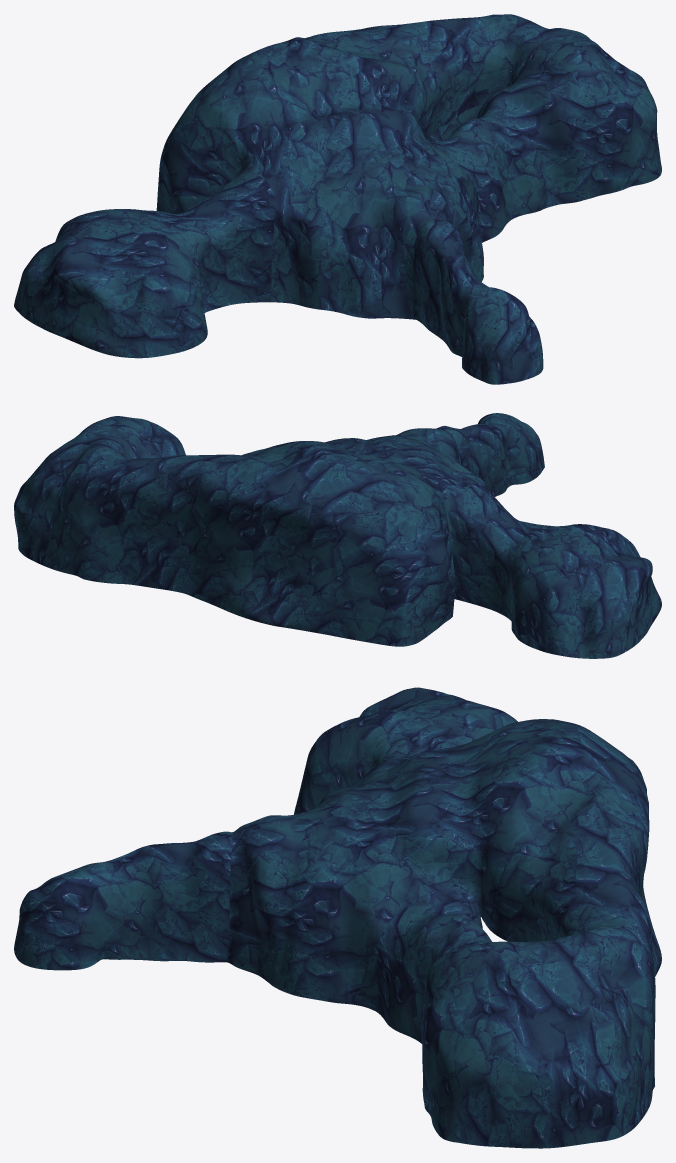
Rendered from Scrum_cavewall_01.fbx.
3 views of the same model, one above another, from view 1: azimuth 30°, elevation 25°; view 2: azimuth 150°, elevation 25°; view 3: azimuth 270°, elevation 25° (orthographic). The views are drawn at different scales.
Parts seen in each view (by area): view 1: cavewall:Scrum_cavewall_01; view 2: cavewall:Scrum_cavewall_01; view 3: cavewall:Scrum_cavewall_01.
Part boxes in pixels (x1,y1,x2,y2): cavewall:Scrum_cavewall_01: [14, 14, 661, 384]; cavewall:Scrum_cavewall_01: [14, 413, 661, 658]; cavewall:Scrum_cavewall_01: [14, 687, 661, 1148].
Size of the model in its own units: 7428 by 1918 by 5331.
